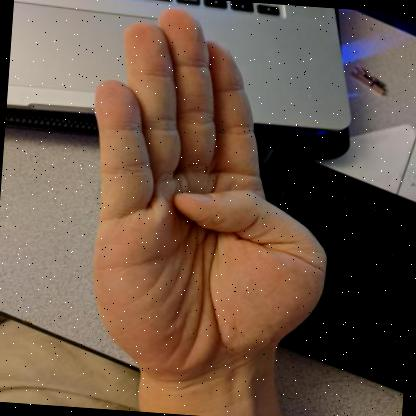B: (92, 8, 327, 397)
